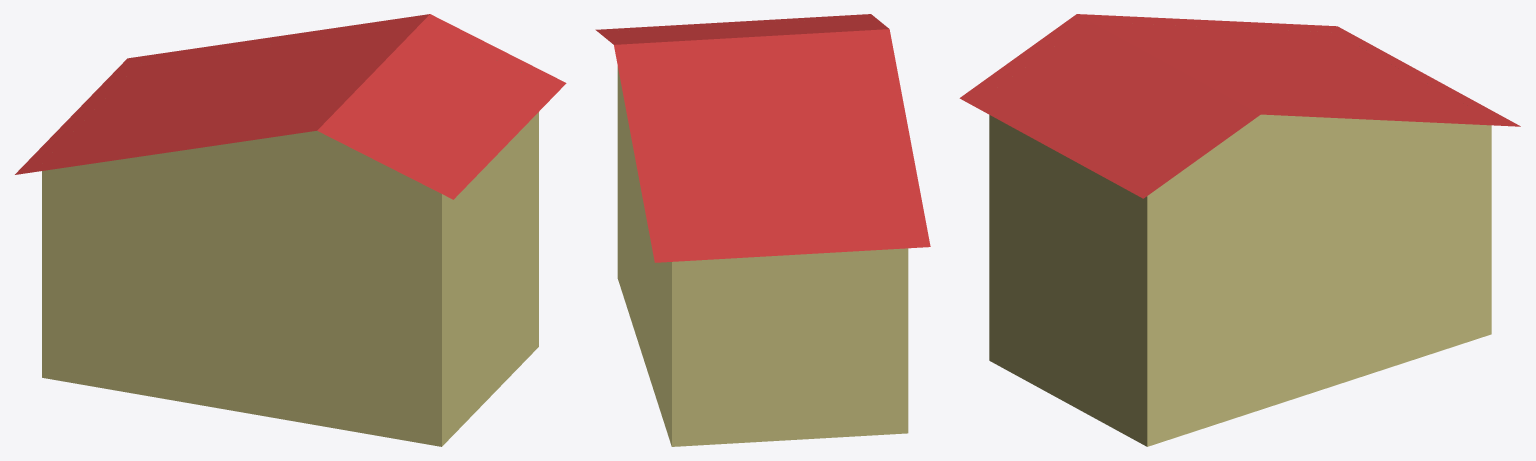
The picture shows the model from 3 angles, left to right: view 1: azimuth 30°, elevation 25°; view 2: azimuth 150°, elevation 25°; view 3: azimuth 270°, elevation 25°; orthographic projection. The views are drawn at different scales.
Bounding box in the file's own units: 18.55 × 19.66 × 11.83.
